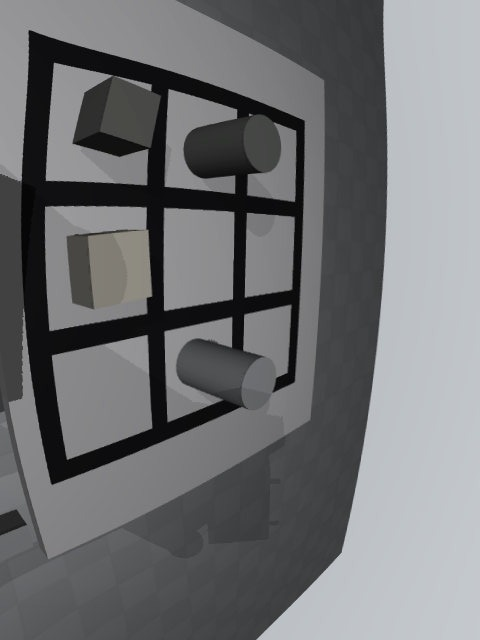can: (176, 338, 277, 411)
cube: (72, 76, 162, 157)
cylinder: (184, 114, 281, 179)
foam: (66, 230, 152, 310)
